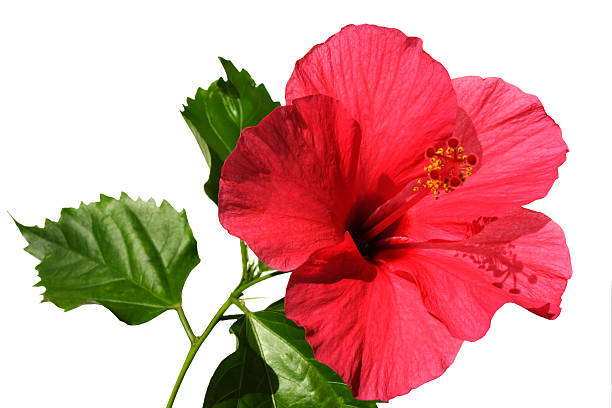Hibiscus: (195, 5, 597, 407)
